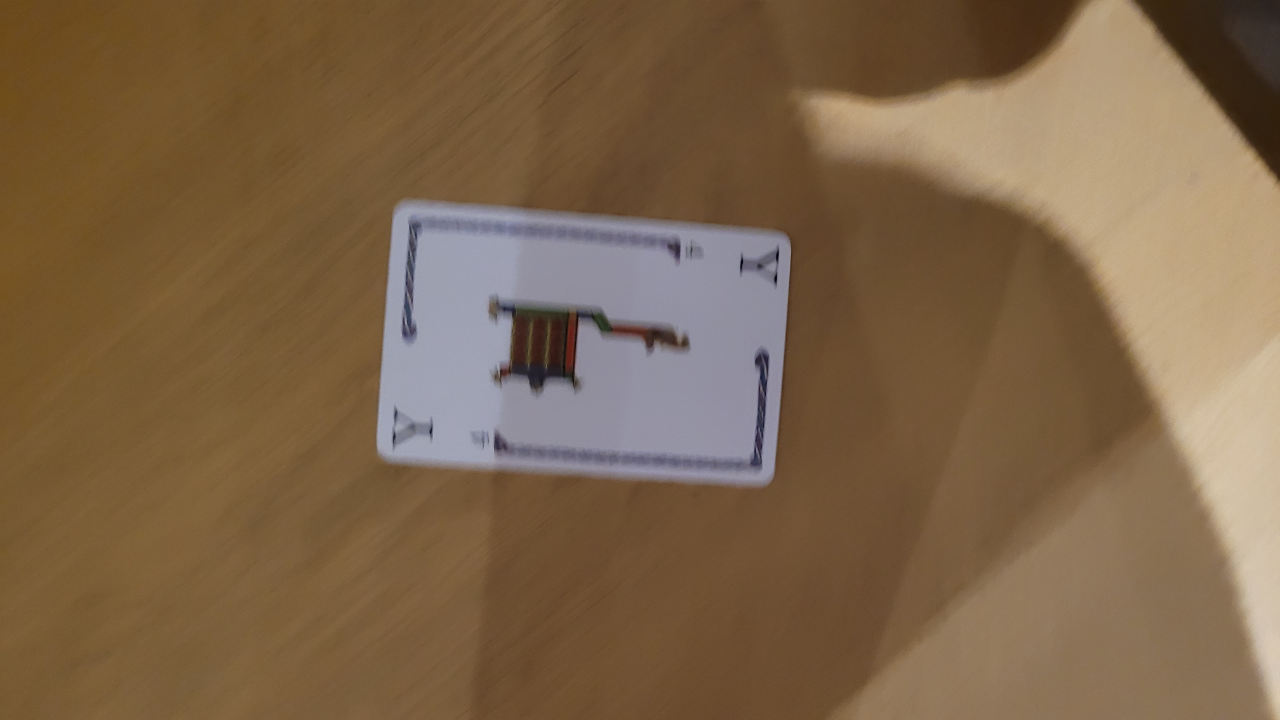quiddler_card: (358, 186, 808, 504)
